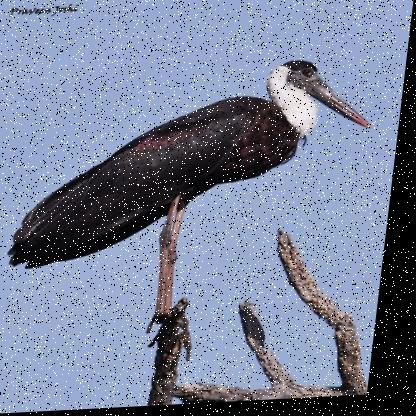Burung: (1, 57, 383, 342)
